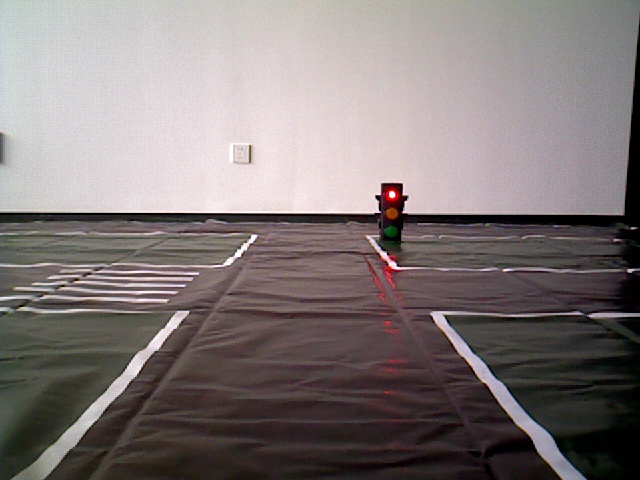red: (381, 184, 400, 242)
